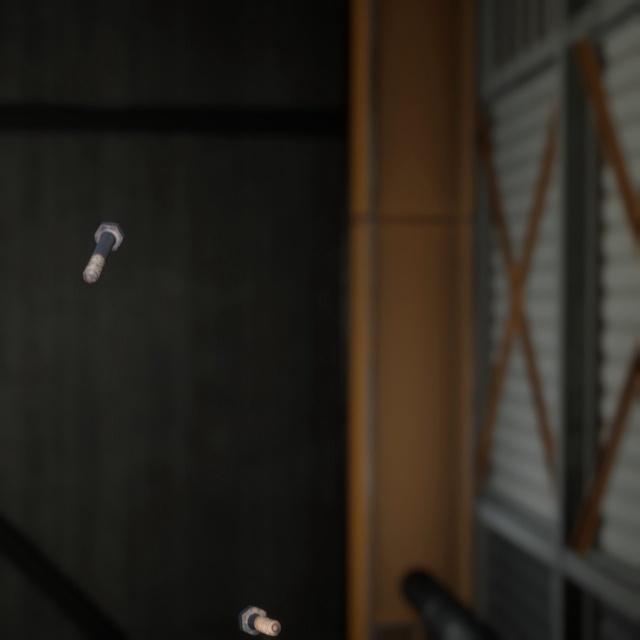bolt: (78, 201, 129, 271), (234, 577, 285, 616)
